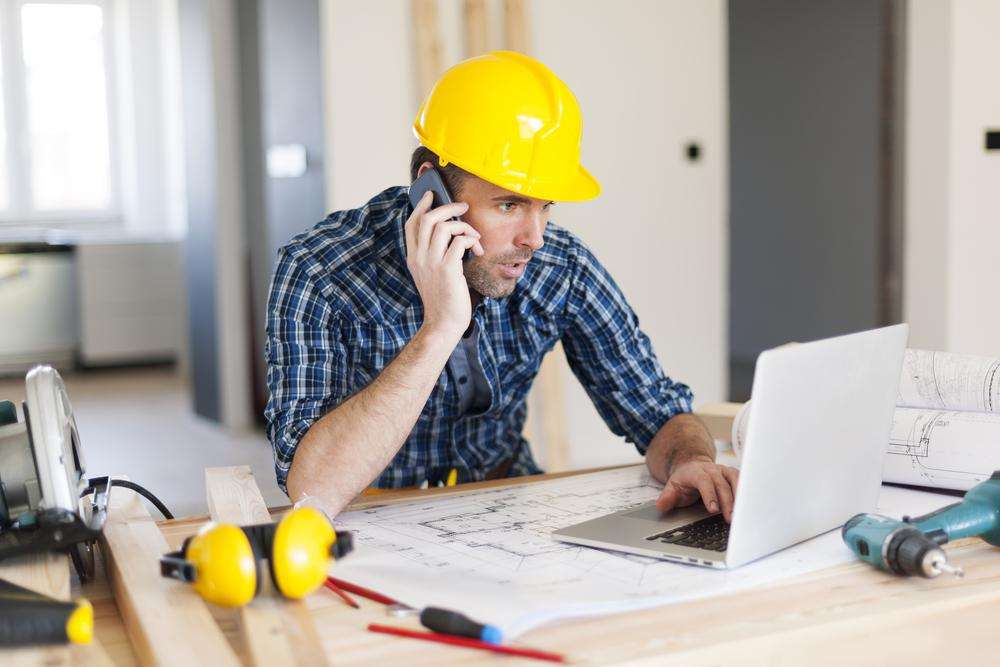helmet: (411, 48, 604, 206)
